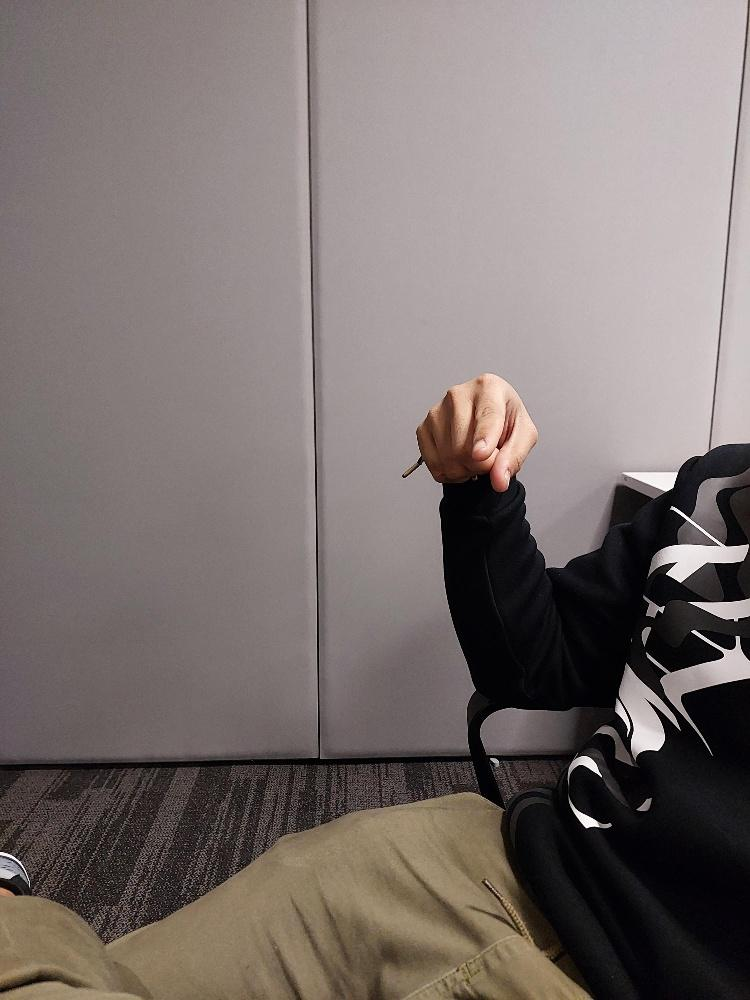z: (414, 370, 538, 493)
